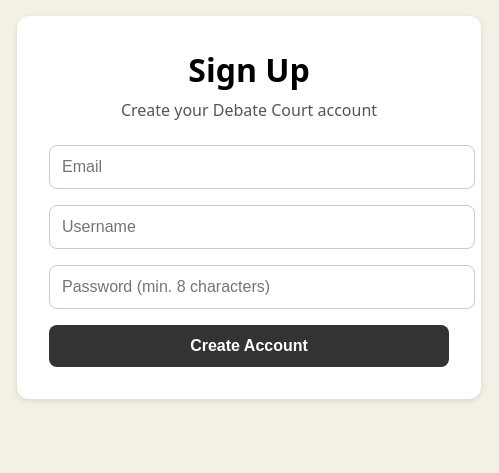
Test: Page tests › SignupPage validates and submits
Type "test@example.com" into the field with placeholder "Email" at (262, 167), box [49, 145, 475, 189]
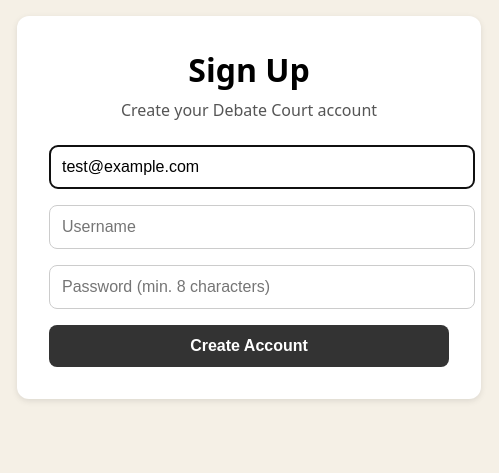
Type "tony" into the field with placeholder "Username" at (262, 227), box [49, 205, 475, 249]
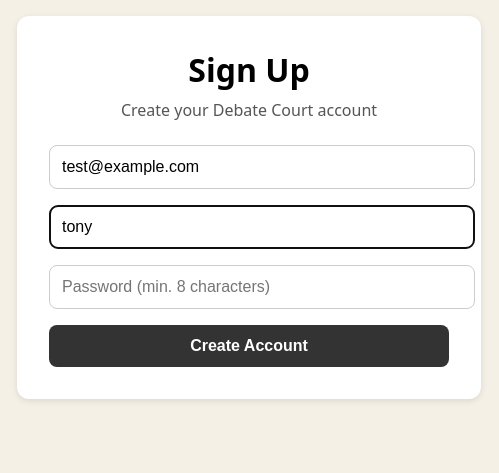
Type "password123" into the password field with placeholder "Password (min. 8 characters)" at (262, 287), box [49, 265, 475, 309]
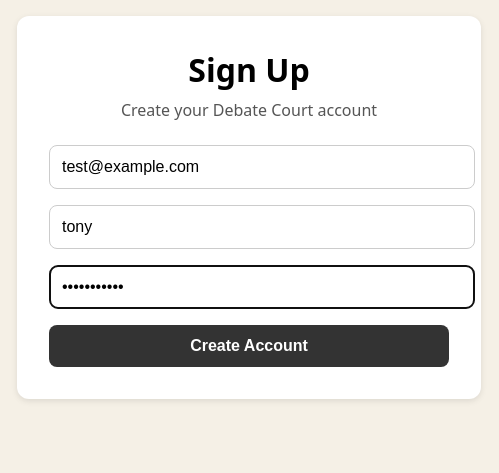
Click the button "Create Account" at (249, 346), box [49, 325, 449, 367]
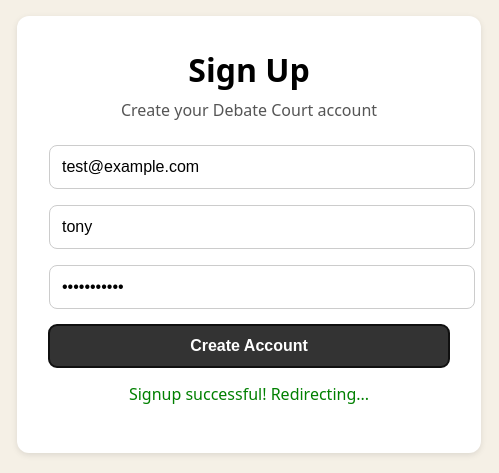
Expected: the text "Signup successful! Redirecting..." is shown, [129, 383, 369, 405]
